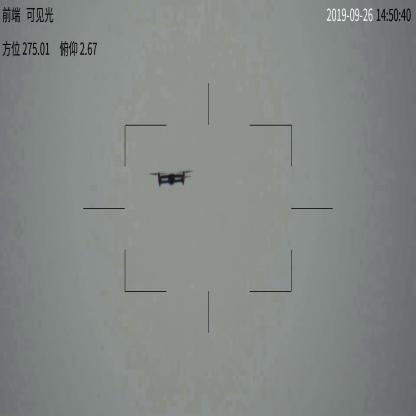uav: (151, 165, 192, 186)
